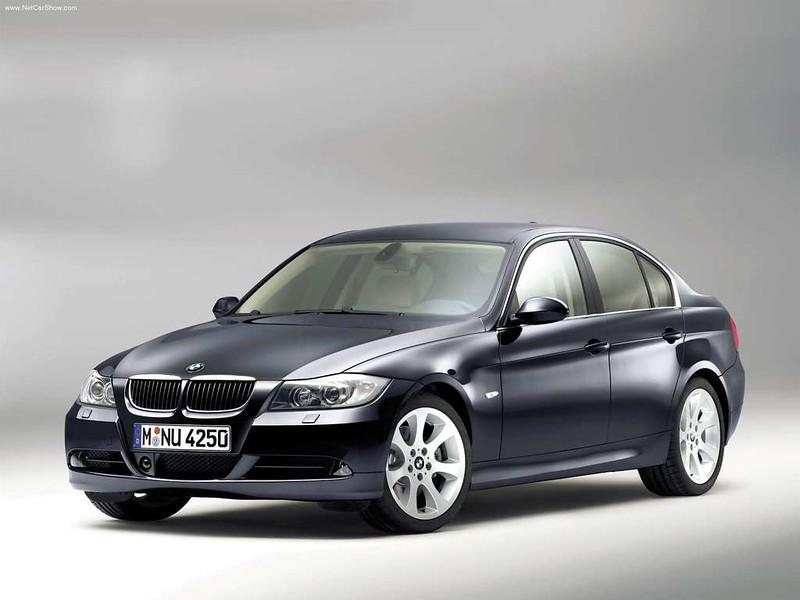windshield: (219, 237, 526, 335)
